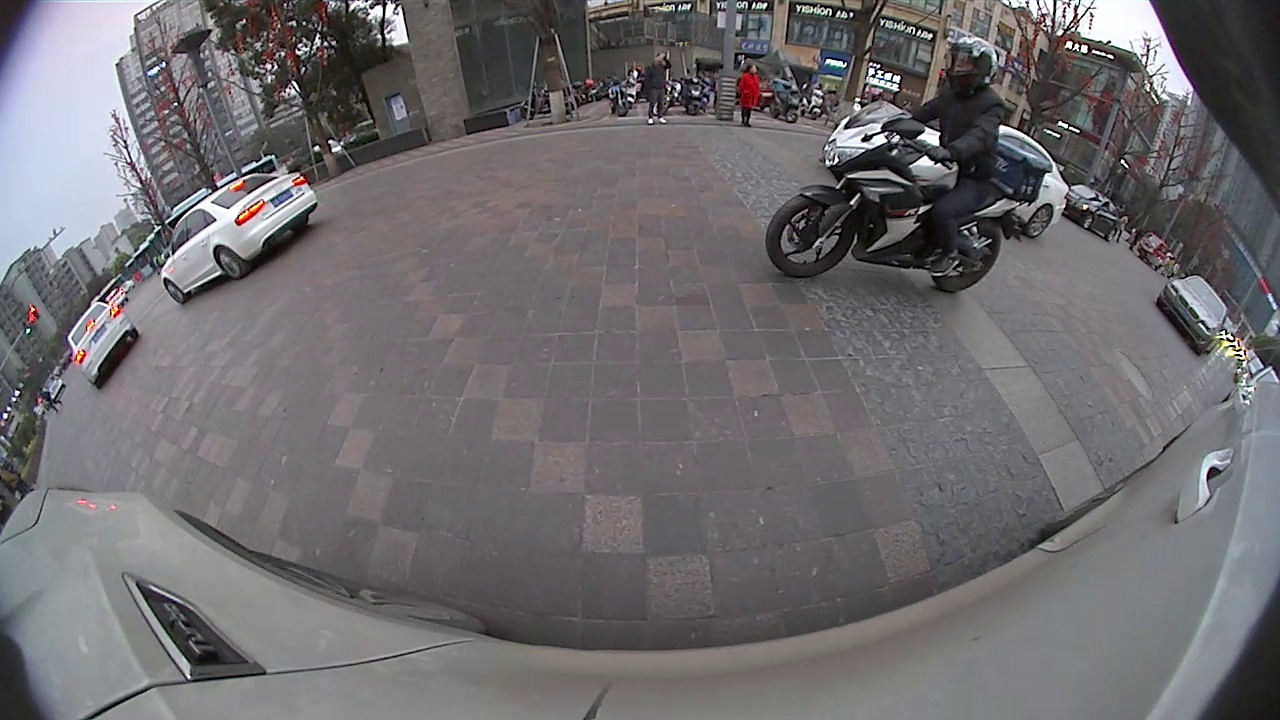car: (158, 169, 319, 306), (990, 122, 1072, 241), (65, 299, 140, 391), (1154, 272, 1231, 357), (1061, 182, 1123, 242)
front: (762, 183, 861, 282), (161, 273, 187, 307)
person: (645, 49, 667, 124), (740, 61, 758, 129)
rear: (925, 218, 1006, 297), (211, 244, 249, 282), (1021, 201, 1055, 241)
rider: (763, 33, 1050, 296)
